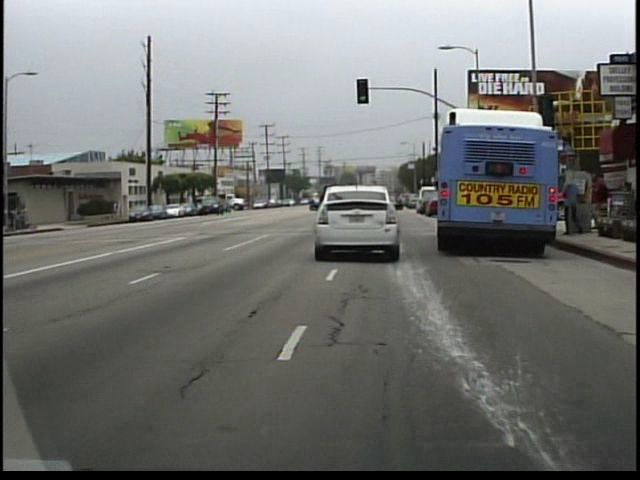person: (557, 172, 583, 240), (112, 195, 121, 218)
